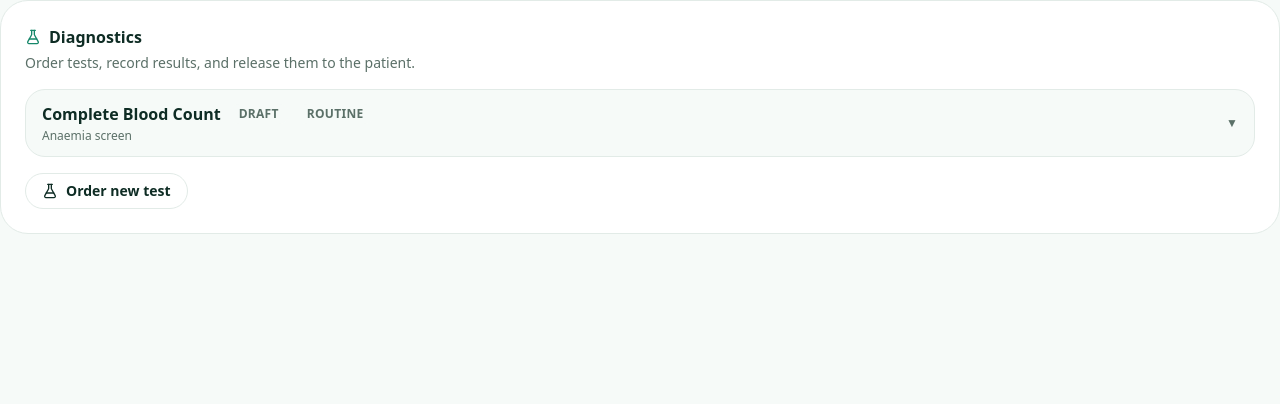
Test: DiagnosticCard › shows Send to lab and Cancel for DRAFT requisitions
The image size is (1280, 404).
Click the text "Complete Blood Count" at (131, 114), box [42,102,221,126]
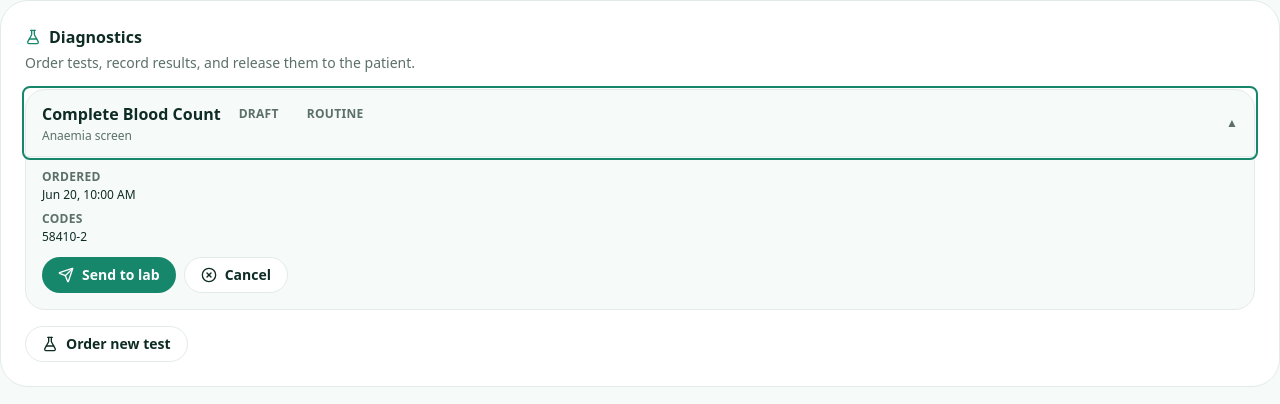
expect the button "Send to lab" is shown: met, box [42,257,176,293]
expect the button "Cancel" is shown: met, box [184,257,288,293]
